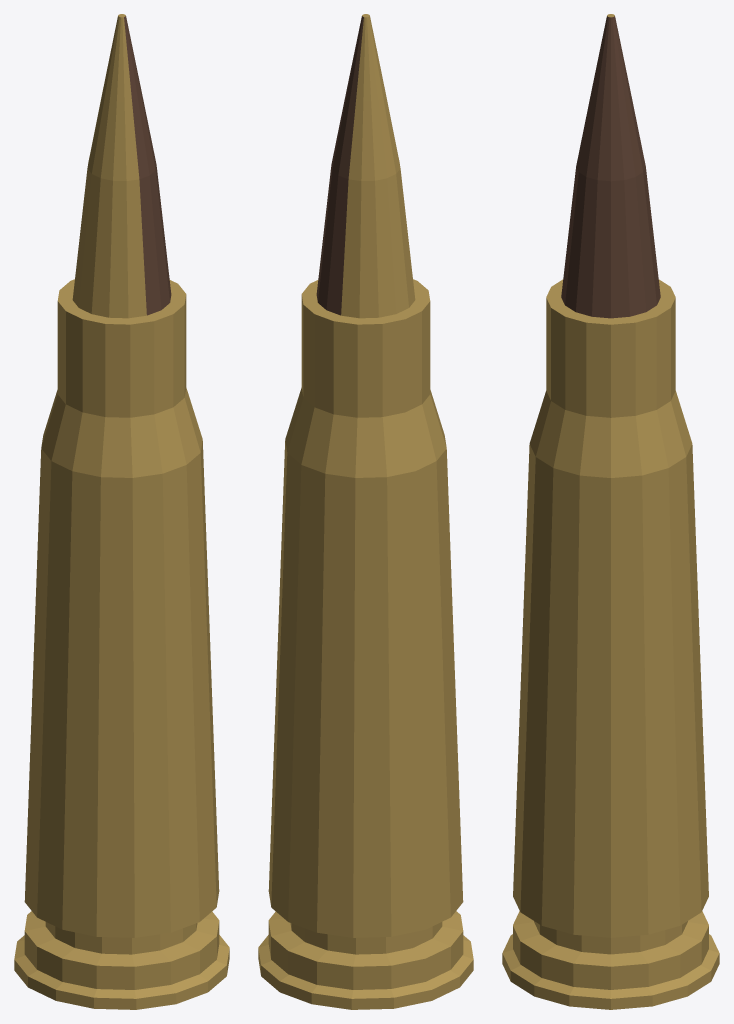
File: Shell_762.fbx
3 renders of one model, left to right at view 1: azimuth 30°, elevation 25°; view 2: azimuth 150°, elevation 25°; view 3: azimuth 270°, elevation 25°, orthographic.
Parts seen in each view (by area): view 1: Shell; view 2: Shell; view 3: Shell.
Part boxes in pixels (x1,y1,x2,y2): Shell: [14, 14, 229, 1009]; Shell: [258, 14, 473, 1009]; Shell: [502, 14, 719, 1009].
Bounding box in the file's own units: 35.08 × 169 × 35.08.
